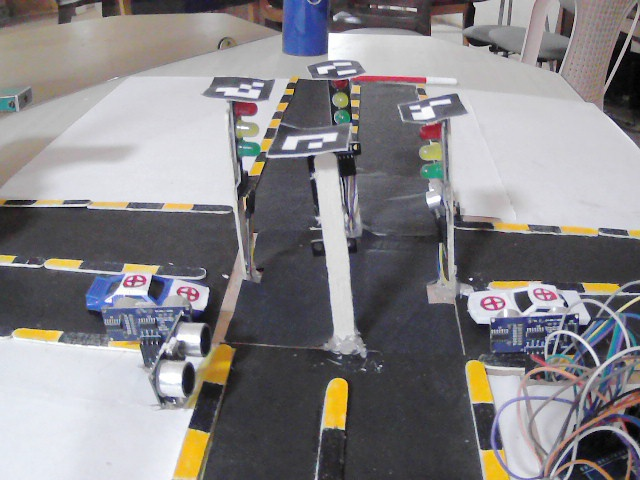aruco_marker: (265, 122, 351, 160), (396, 92, 466, 123), (203, 75, 274, 104), (309, 57, 365, 85)
emergency_vehicle: (90, 273, 212, 313), (469, 286, 588, 327)
traffic_light: (229, 104, 260, 234), (421, 122, 451, 184), (330, 80, 352, 128)
uno_breadboard: (541, 384, 640, 480), (492, 307, 580, 375), (108, 297, 191, 367), (151, 318, 213, 402), (423, 181, 446, 224)
